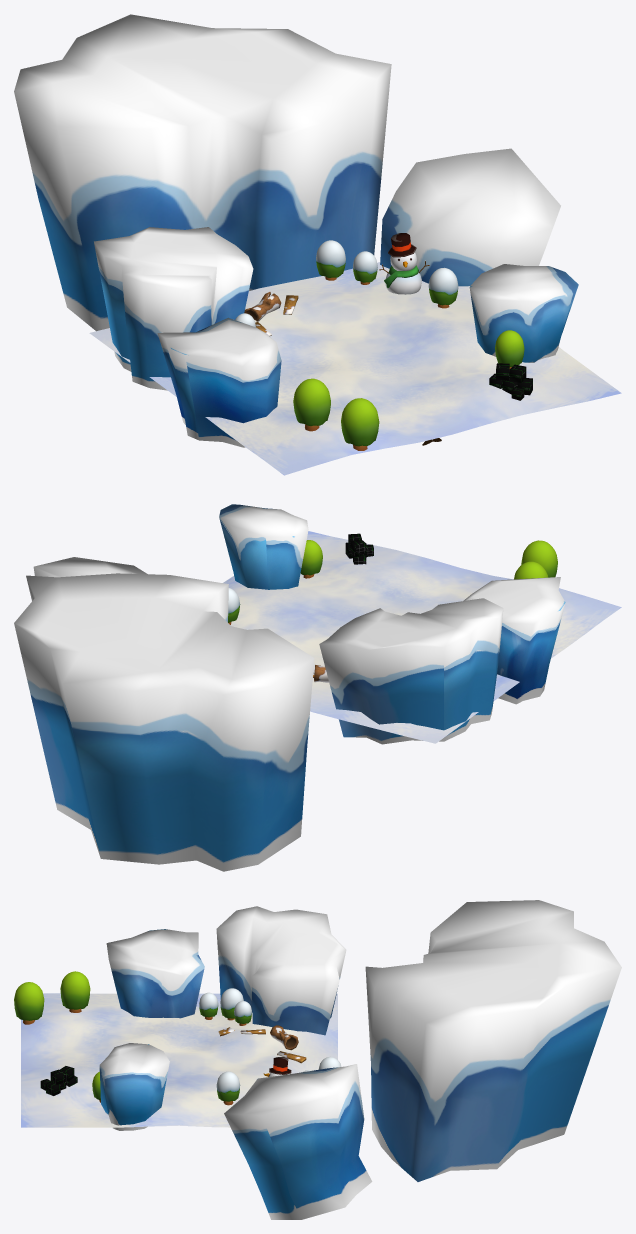
Rendered from IceCamera2.FBX.
3 views of the same model, one above another, from view 1: azimuth 30°, elevation 25°; view 2: azimuth 150°, elevation 25°; view 3: azimuth 270°, elevation 25° (orthographic). The views are drawn at different scales.
Parts seen in each view (by area): view 1: Iceberg012, tereno1, Iceberg014, Iceberg009, Iceberg010, Iceberg013, Ice_man007, Icethree003, Icethree004, box02, Icethree034, Icethree035 (+2 smaller); view 2: Iceberg012, Iceberg009, tereno1, Iceberg010, Iceberg013, Iceberg014, Icethree003, Icethree002, box02; view 3: Iceberg012, tereno1, Iceberg014, Iceberg009, Iceberg010, Iceberg013, Icethree003, Icethree004, box02, Icethree035, Icethree032.
Boxes of the visible parts, left/top/right/bottom form: Iceberg012: left=14, top=14, right=391, bottom=331; tereno1: left=89, top=262, right=621, bottom=475; Iceberg014: left=380, top=148, right=560, bottom=286; Iceberg009: left=94, top=227, right=253, bottom=390; Iceberg010: left=157, top=317, right=281, bottom=447; Iceberg013: left=469, top=264, right=578, bottom=362; Ice_man007: left=379, top=233, right=429, bottom=294; Icethree003: left=341, top=398, right=379, bottom=450; Icethree004: left=293, top=378, right=330, bottom=431; box02: left=489, top=363, right=532, bottom=400; Icethree034: left=316, top=240, right=345, bottom=280; Icethree035: left=428, top=267, right=458, bottom=308; Iceberg012: left=14, top=573, right=314, bottom=871; Iceberg009: left=319, top=598, right=503, bottom=744; tereno1: left=223, top=531, right=621, bottom=743; Iceberg010: left=463, top=577, right=565, bottom=704; Iceberg013: left=219, top=504, right=308, bottom=589; Iceberg014: left=33, top=557, right=147, bottom=577; Icethree003: left=521, top=540, right=557, bottom=577; Icethree002: left=300, top=540, right=322, bottom=578; box02: left=345, top=533, right=373, bottom=564; Iceberg012: left=365, top=900, right=621, bottom=1181; tereno1: left=21, top=993, right=337, bottom=1127; Iceberg014: left=224, top=1064, right=372, bottom=1219; Iceberg009: left=216, top=906, right=346, bottom=1035; Iceberg010: left=106, top=929, right=204, bottom=1018; Iceberg013: left=99, top=1043, right=169, bottom=1130; Icethree003: left=14, top=982, right=44, bottom=1024; Icethree004: left=60, top=971, right=90, bottom=1012; box02: left=40, top=1066, right=77, bottom=1095; Icethree035: left=216, top=1071, right=240, bottom=1105; Icethree032: left=220, top=988, right=243, bottom=1020.
Bounding box in the file's own units: 665 × 334 × 959.
